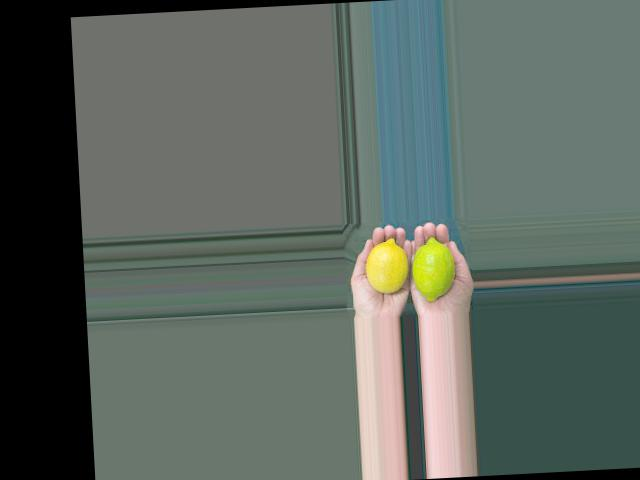lemon: (364, 237, 410, 296)
